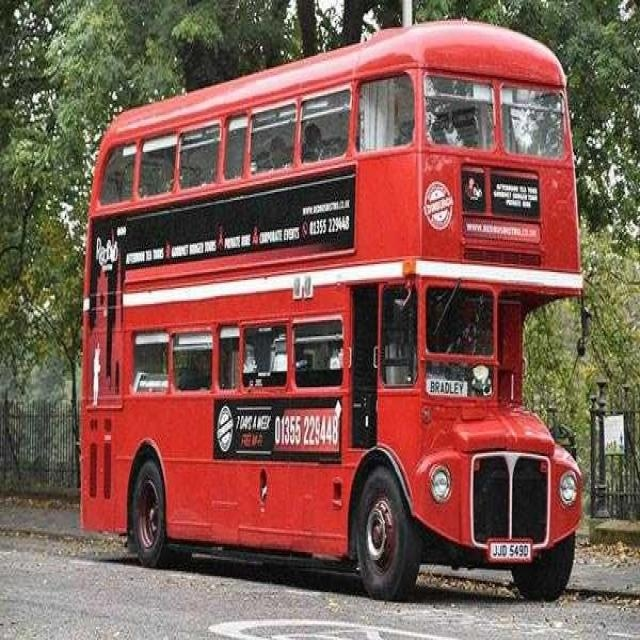Bus: (75, 11, 593, 608)
